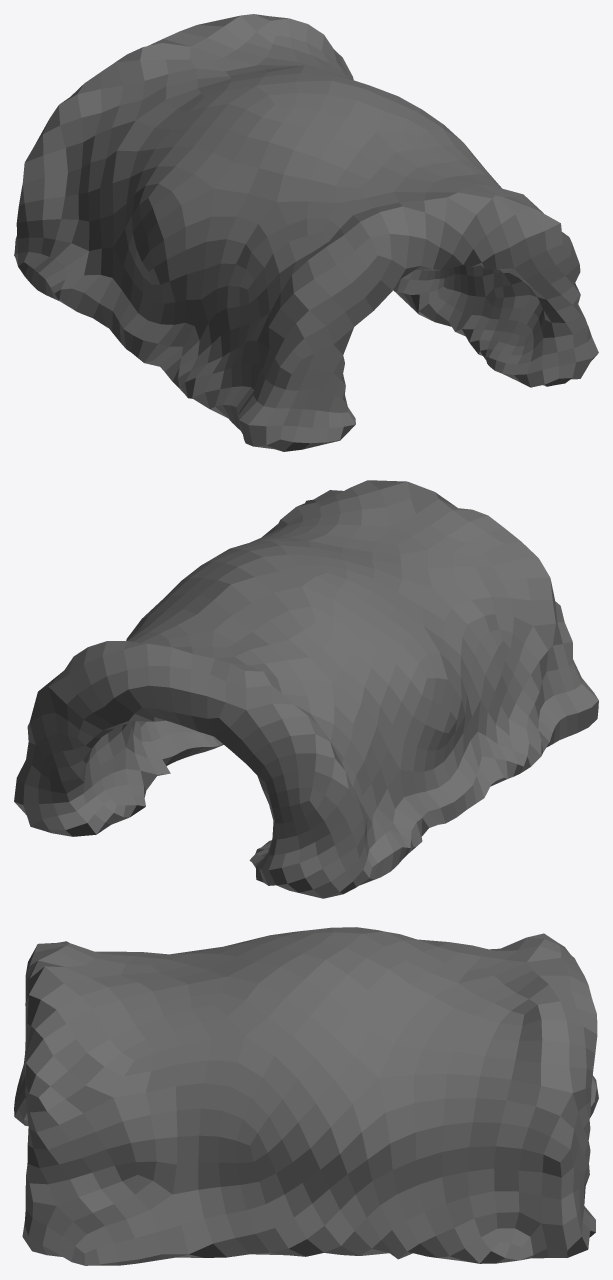
Rendered from arch2.dae.
3 renders of one model, top to bottom at view 1: azimuth 30°, elevation 25°; view 2: azimuth 150°, elevation 25°; view 3: azimuth 270°, elevation 25°, orthographic. The views are drawn at different scales.
Parts seen in each view (by area): view 1: arch3; view 2: arch3; view 3: arch3.
Boxes of the visible parts, x1,y1,x2,y2 form: arch3: [14, 14, 598, 451]; arch3: [14, 480, 598, 898]; arch3: [14, 927, 598, 1265].
Size of the model in its own units: 16.08 by 20.93 by 9.31.
Materials: 1 (1 with a texture image).
